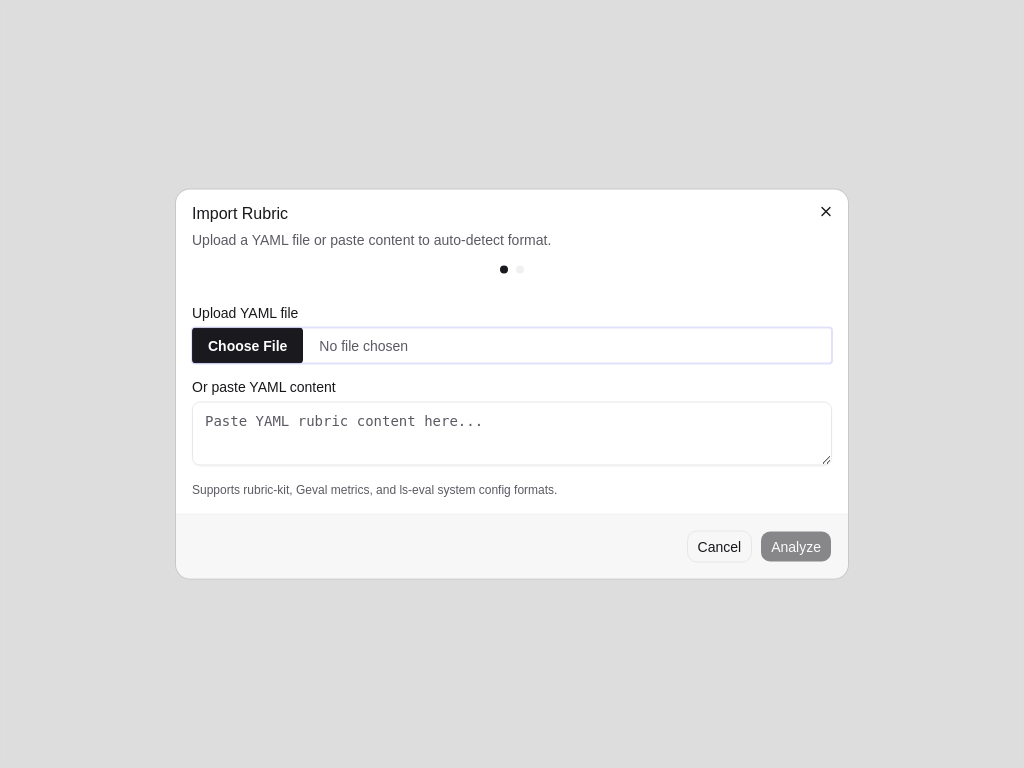
RubricImportDialog › shows fallback error message for non-Error thrown during analyze
Type "bad yaml" into the text box with placeholder "Paste YAML rubric content here...".
click(512, 434); type("bad yaml")  # box [192,402,832,466]
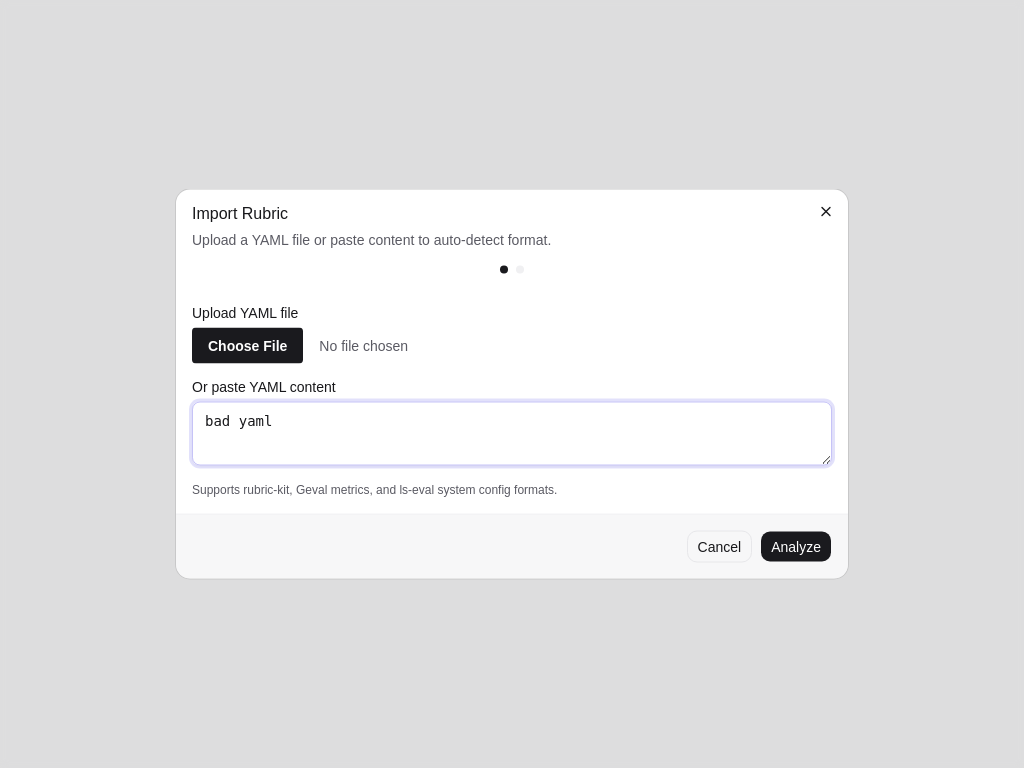
Click the button with test id "analyze-button".
click(796, 546)  # box [760,530,832,562]
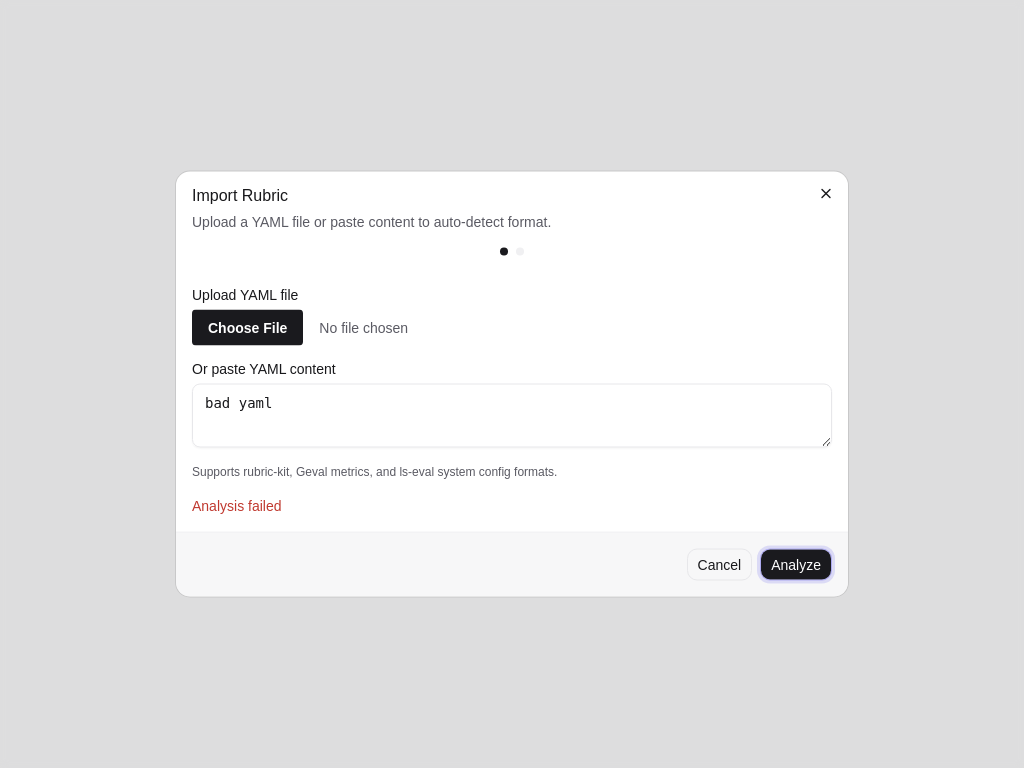
Expected: the text "Analysis failed" is shown, [192,498,282,514]
